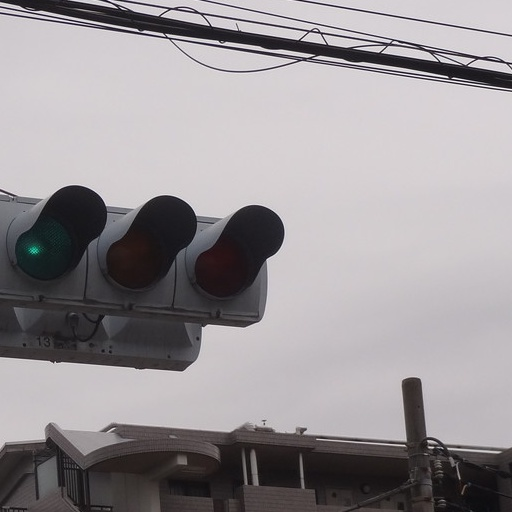Traffic_Signal_Blue: (7, 194, 273, 292)
